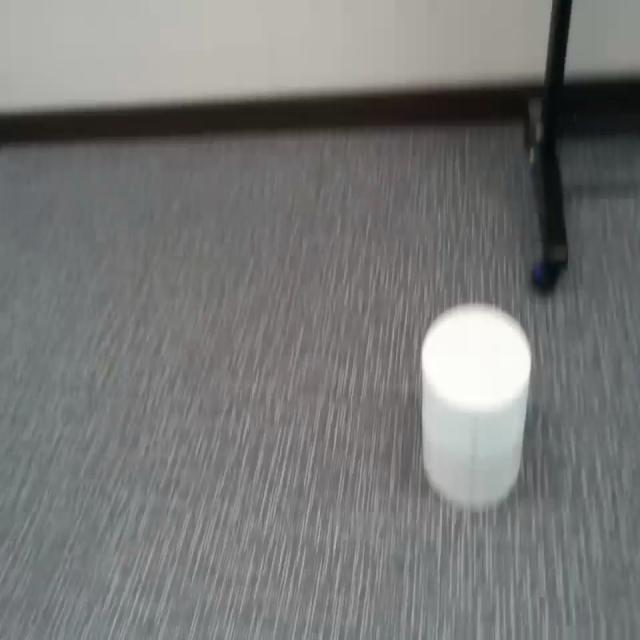cylinder: (419, 301, 534, 508)
